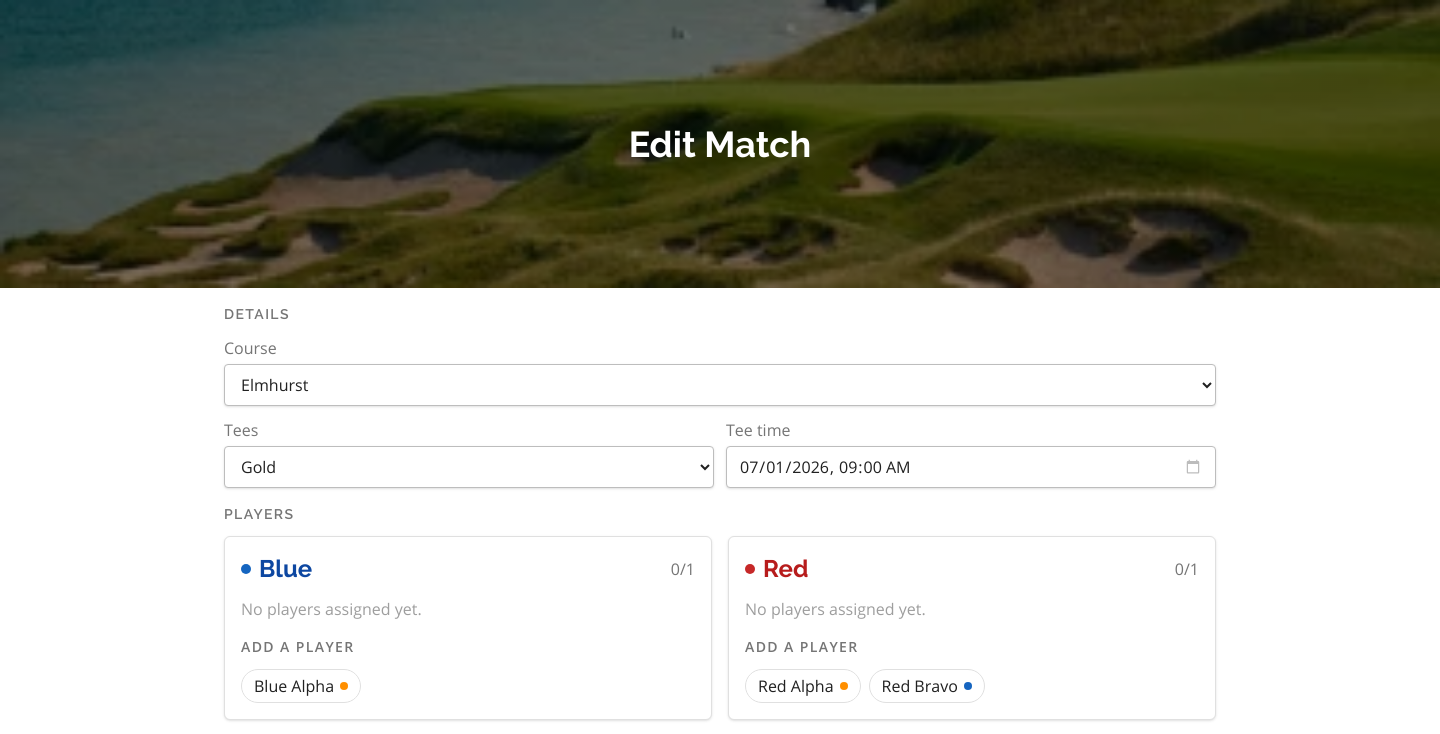
Test case: AdminMatchLineupView › stages a player rather than writing them
Click the button "Red Alpha".
click(803, 686)  # box [745, 669, 860, 703]
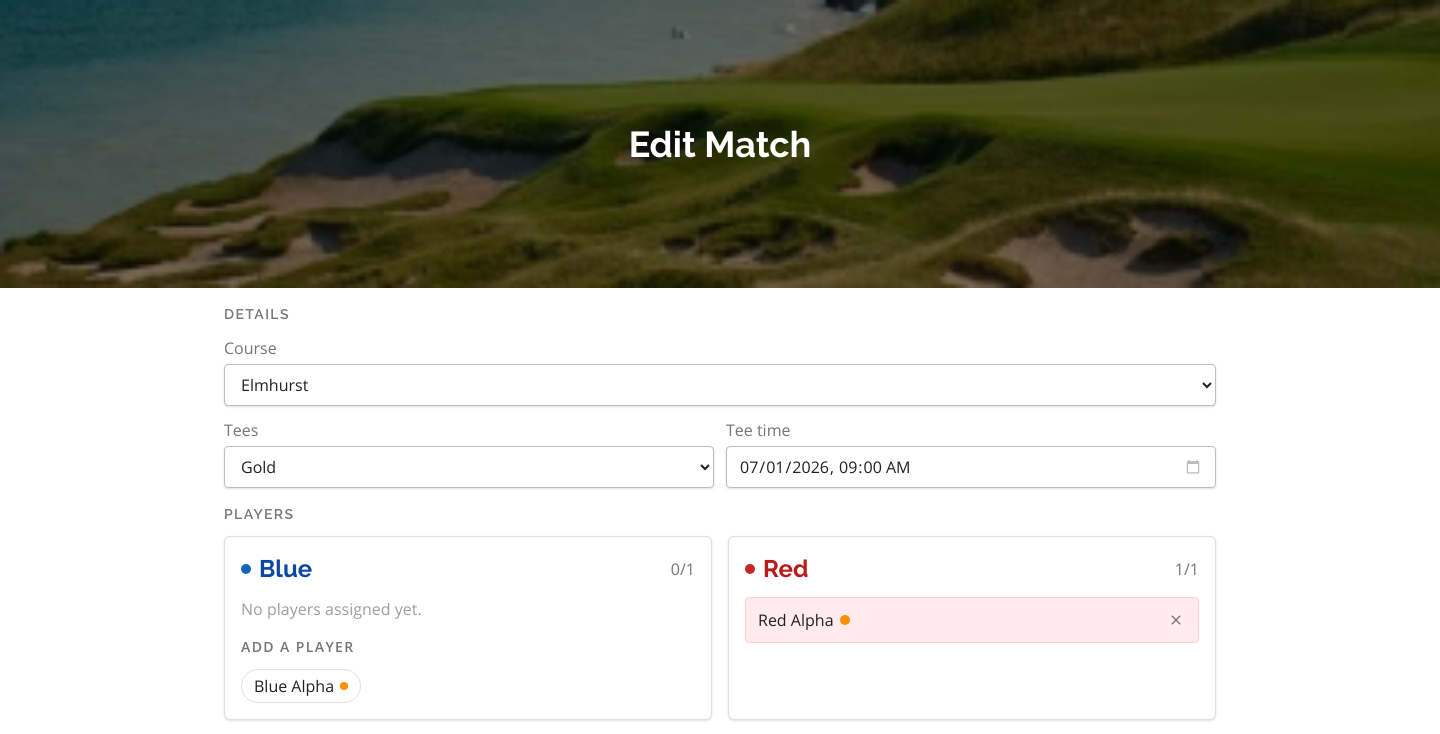
Click the button "Blue Alpha".
click(301, 686)  # box [241, 669, 361, 703]
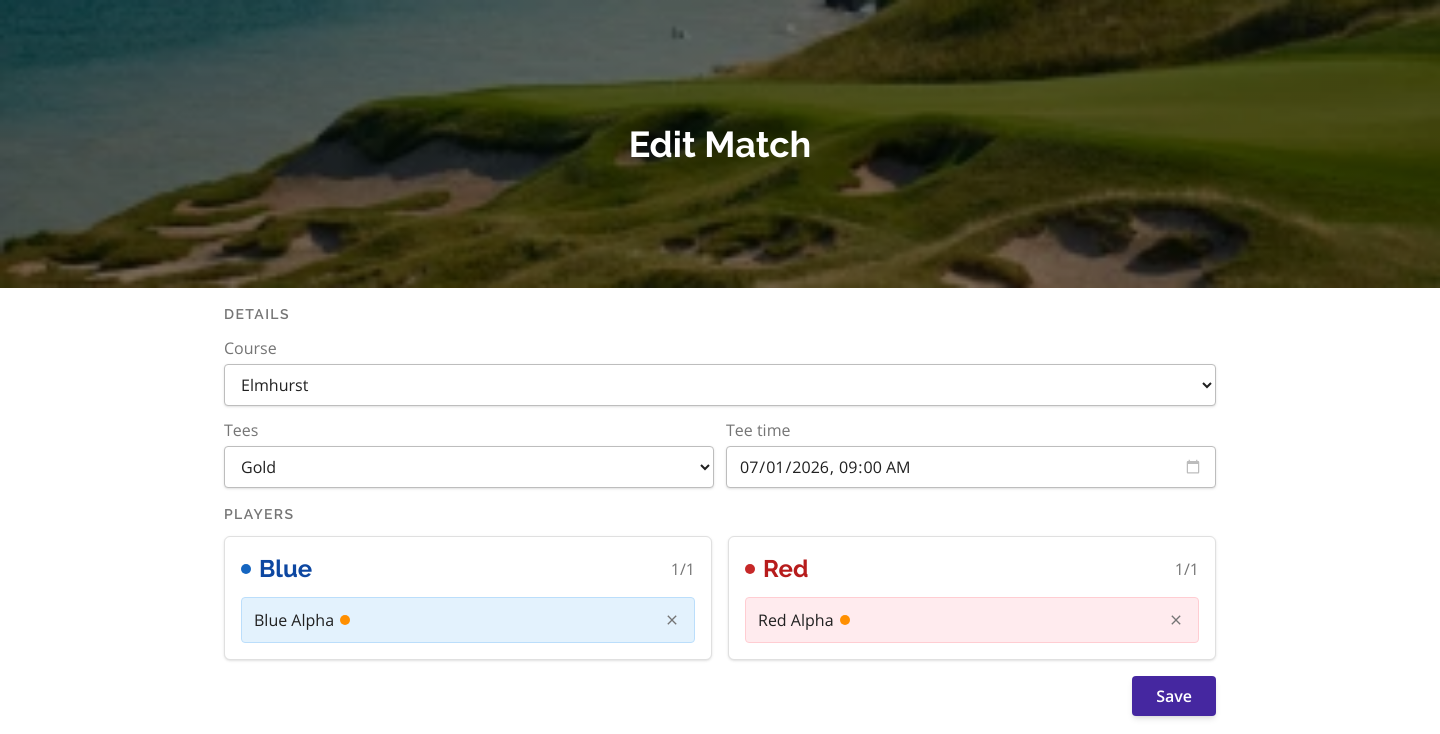
Expected: the button "Save" is enabled, [1132, 676, 1216, 716]
